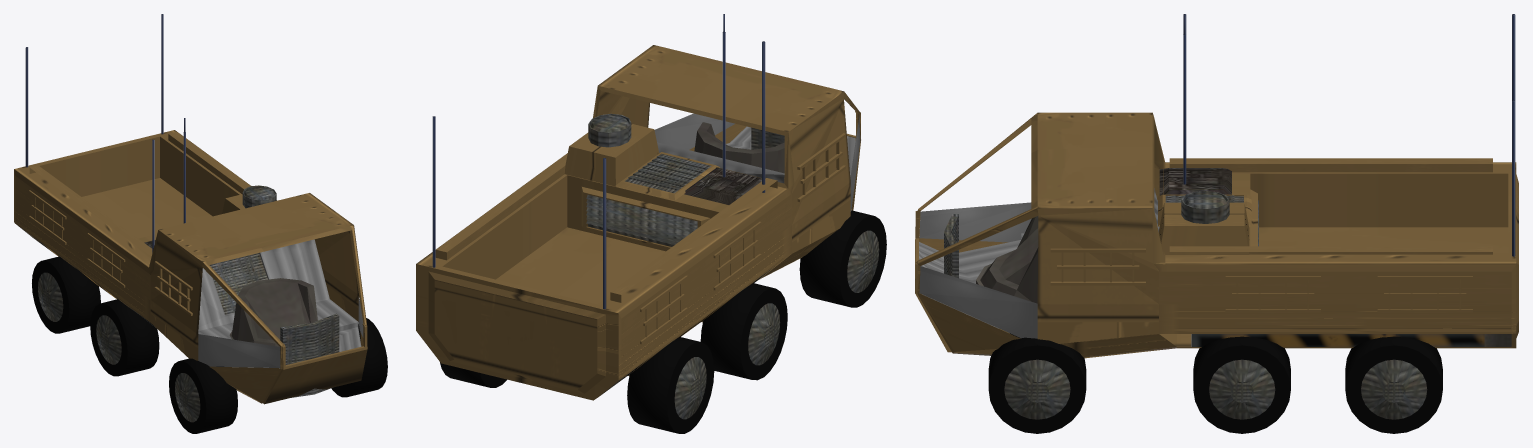
Rendered from vbl_worker.dae.
3 renders of one model, left to right at view 1: azimuth 30°, elevation 25°; view 2: azimuth 150°, elevation 25°; view 3: azimuth 270°, elevation 25°, orthographic. The views are drawn at different scales.
Parts seen in each view (by area): view 1: VBL_worker; view 2: VBL_worker; view 3: VBL_worker.
Boxes of the visible parts, x1,y1,x2,y2 form: VBL_worker: [14, 14, 387, 433]; VBL_worker: [416, 14, 886, 433]; VBL_worker: [915, 14, 1518, 433].
Size of the model in its own units: 6.75 by 14.29 by 8.8.
